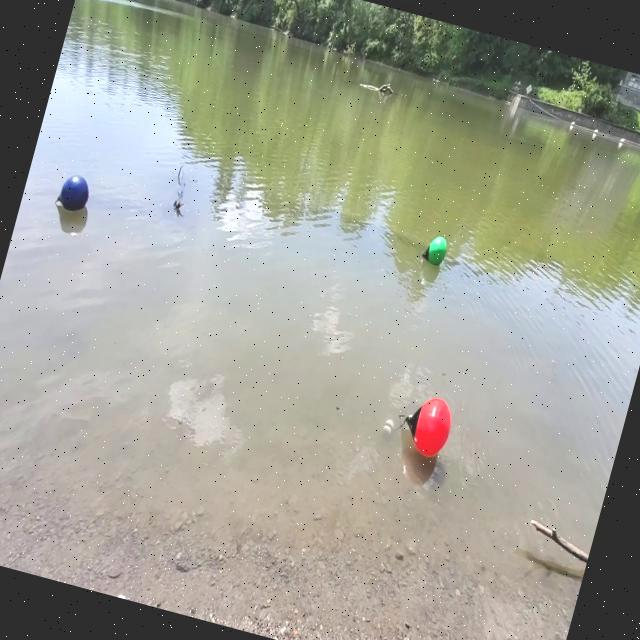buoy: (388, 378, 462, 466), (48, 166, 98, 222), (416, 227, 454, 274)
